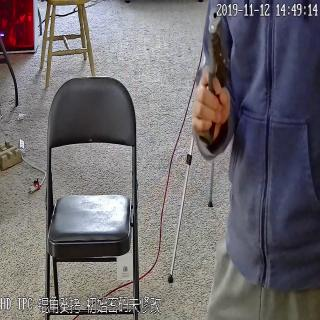gun: (188, 9, 235, 162)
